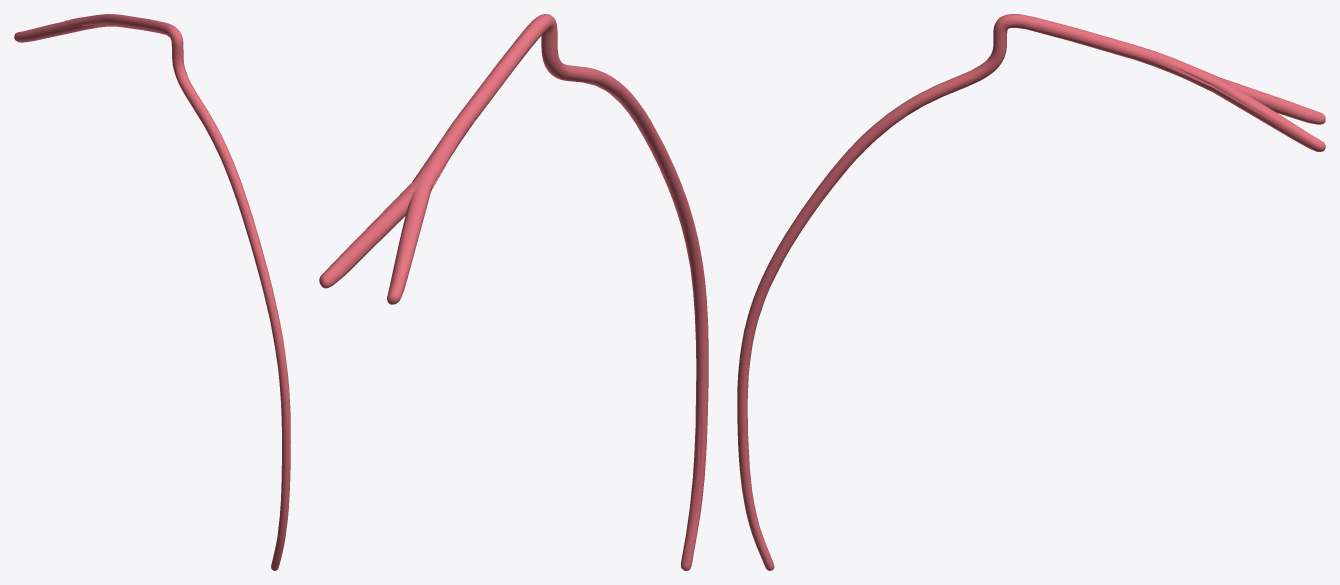
The model's file is fma21354_fj2056.glb.
3 views of the same model, side by side, from view 1: azimuth 30°, elevation 25°; view 2: azimuth 150°, elevation 25°; view 3: azimuth 270°, elevation 25° (orthographic). The views are drawn at different scales.
Parts seen in each view (by area): view 1: FMA21354_FJ2056; view 2: FMA21354_FJ2056; view 3: FMA21354_FJ2056.
Part boxes in pixels (x1=…): FMA21354_FJ2056: x1=14, y1=14, x2=290, y2=570; FMA21354_FJ2056: x1=319, y1=14, x2=708, y2=570; FMA21354_FJ2056: x1=737, y1=14, x2=1325, y2=570.
Size of the model in its own units: 0.0101 by 0.0799 by 0.0766.
